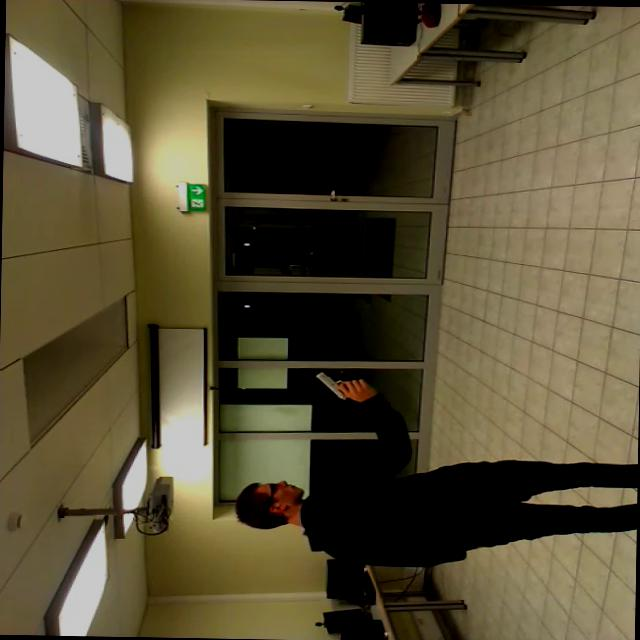handgun: (311, 361, 376, 404)
